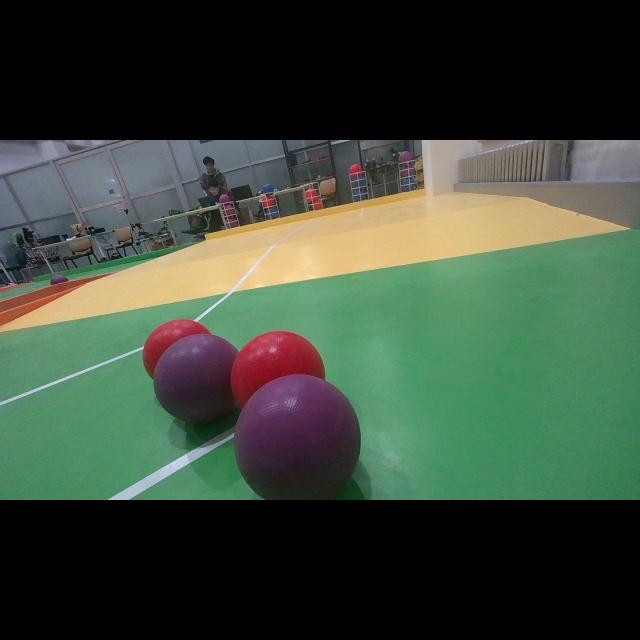P: (233, 374, 361, 500), (156, 335, 238, 411)
R: (230, 330, 326, 410), (143, 318, 211, 379)
